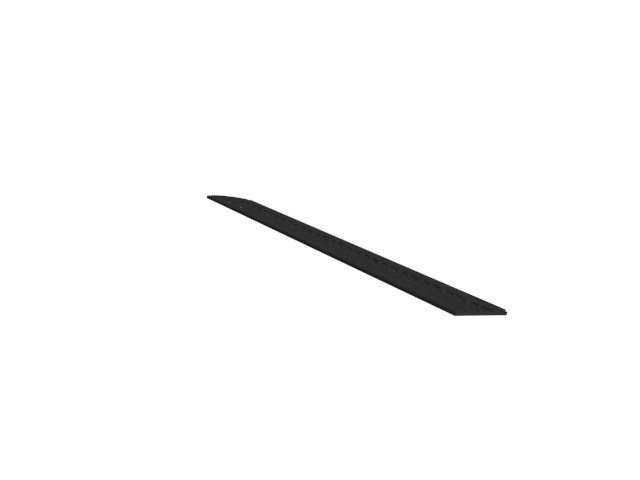ruler: (201, 193, 512, 320)
